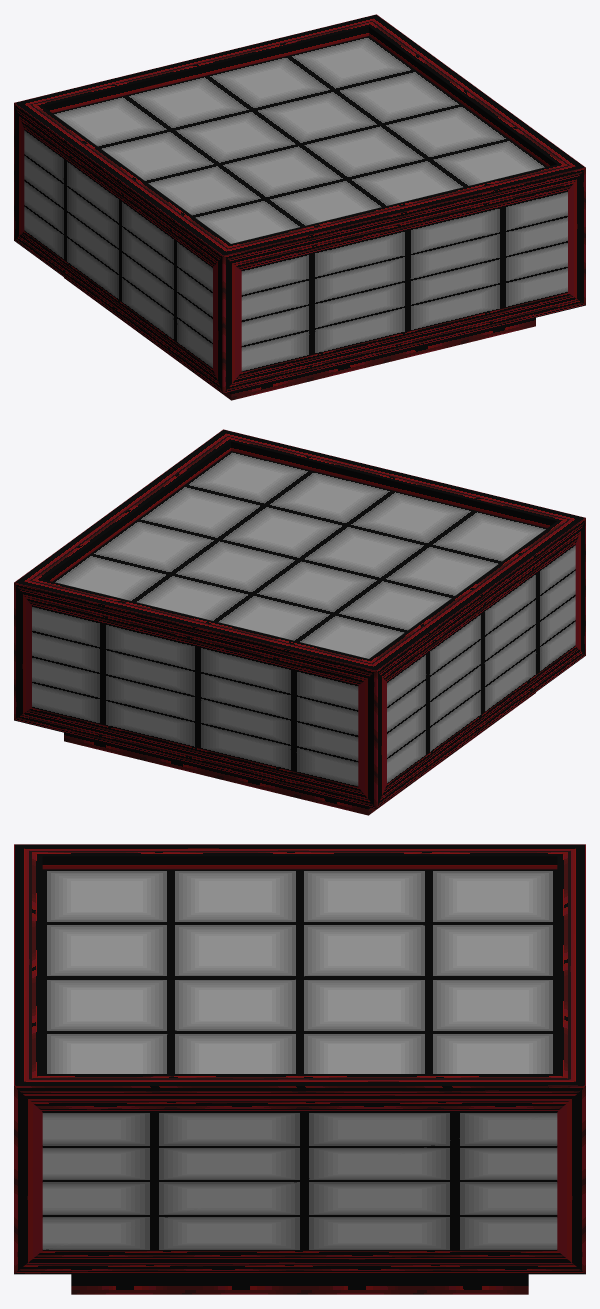
The model's file is 3884kg3case12.gltf.
3 renders of one model, top to bottom at view 1: azimuth 30°, elevation 25°; view 2: azimuth 150°, elevation 25°; view 3: azimuth 270°, elevation 25°, orthographic. The views are drawn at different scales.
Visible parts, largest first — view 1: 3884kg3case12; view 2: 3884kg3case12; view 3: 3884kg3case12.
Part boxes in pixels (bbox=[...]): 3884kg3case12: bbox=[14, 14, 585, 400]; 3884kg3case12: bbox=[14, 429, 585, 815]; 3884kg3case12: bbox=[14, 844, 585, 1294].
Size of the model in its own units: 1 by 0.4399 by 1.
Materials: 2 (2 with a texture image).
